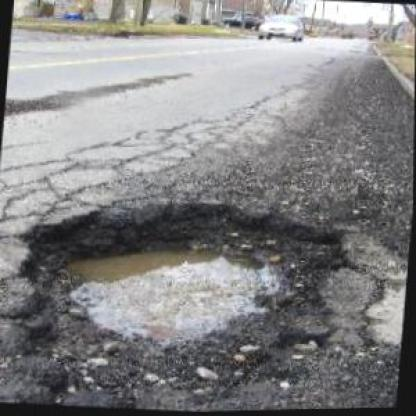pothole: (2, 186, 354, 414)
